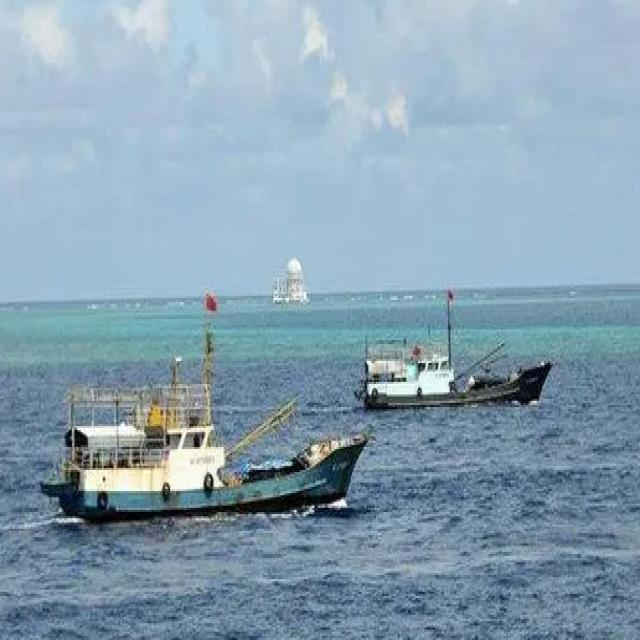fishing boat: (37, 361, 368, 516), (347, 281, 548, 415)
